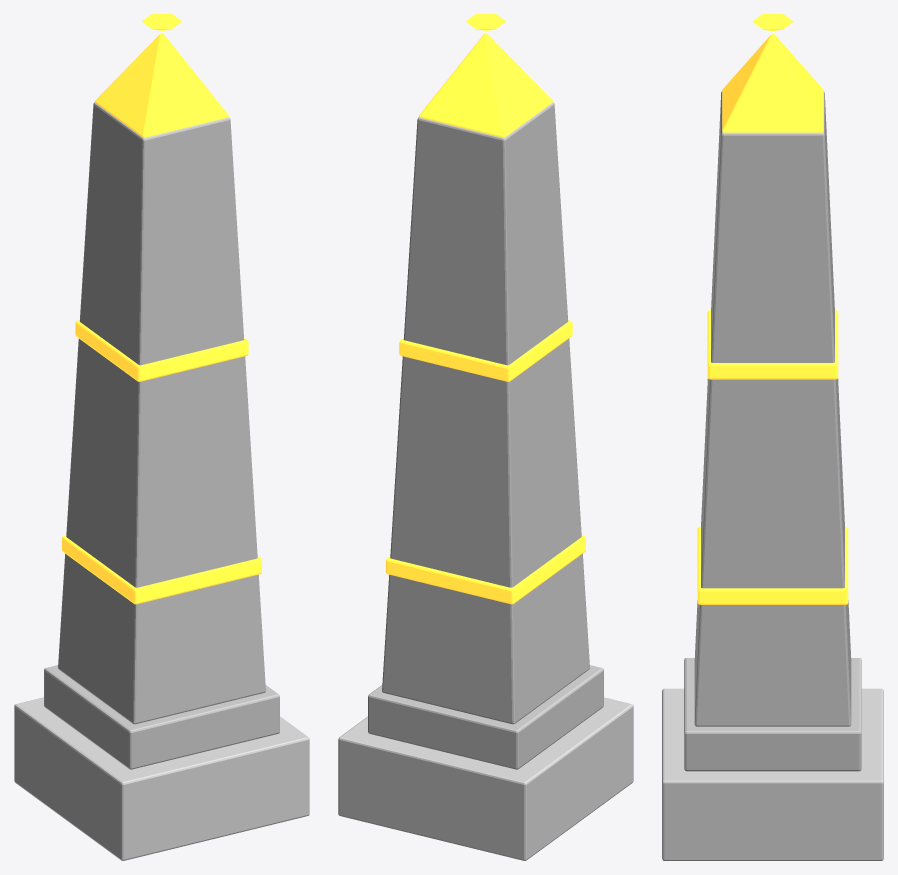
Rendered from mesopotamia_checkpoint.fbx.
The picture shows the model from 3 angles, left to right: view 1: azimuth 30°, elevation 25°; view 2: azimuth 150°, elevation 25°; view 3: azimuth 270°, elevation 25°; orthographic projection.
Parts seen in each view (by area): view 1: mesopotamia_checkpoint; view 2: mesopotamia_checkpoint; view 3: mesopotamia_checkpoint.
Boxes of the visible parts, <box> form: mesopotamia_checkpoint: <box>14,14,309,860</box>; mesopotamia_checkpoint: <box>338,14,633,860</box>; mesopotamia_checkpoint: <box>662,14,883,860</box>.
Bounding box in the file's own units: 1 × 3.95 × 1.
